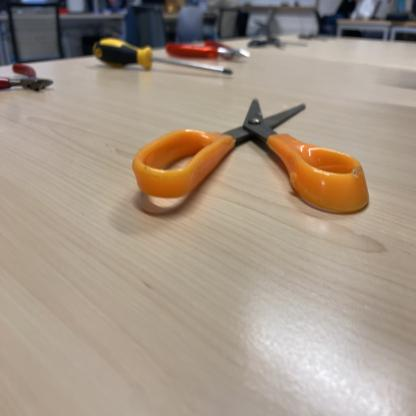scissors: (132, 100, 373, 216)
